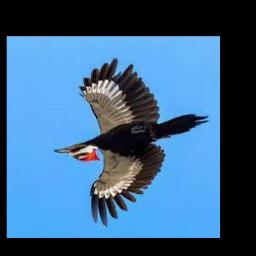Woodpecker: (53, 58, 209, 229)
